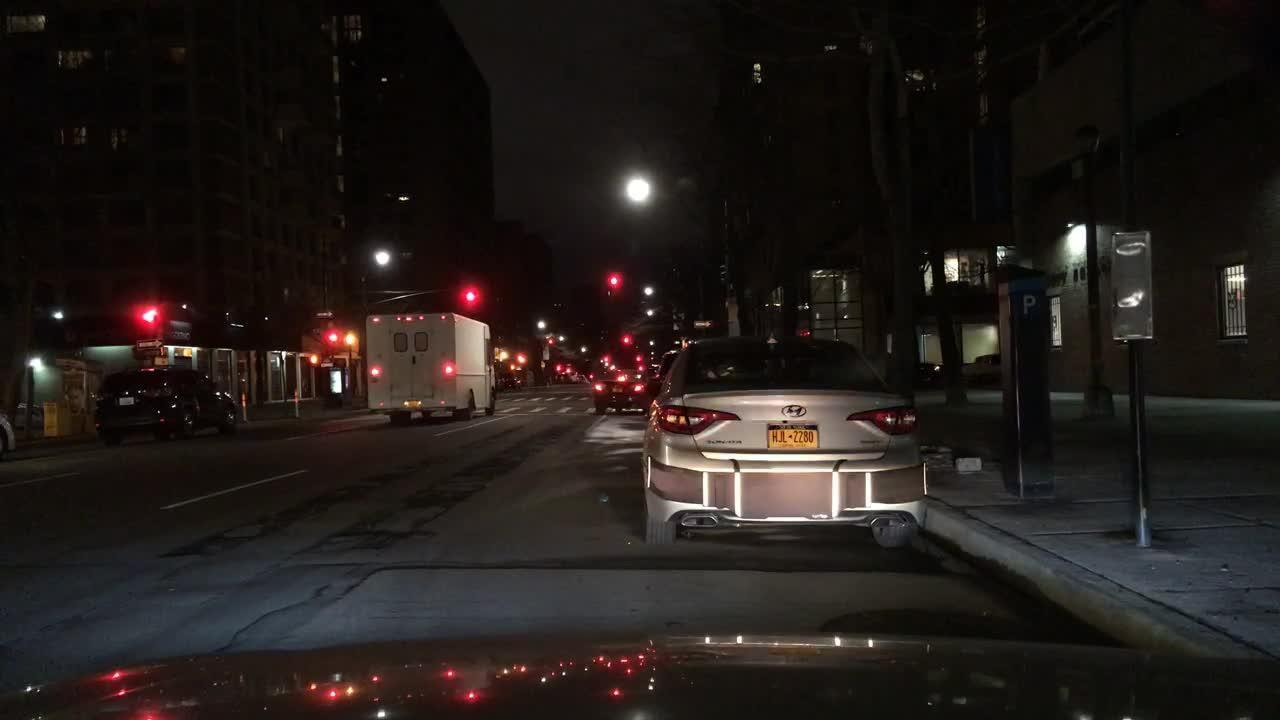Hyundai: (777, 393, 815, 429)
